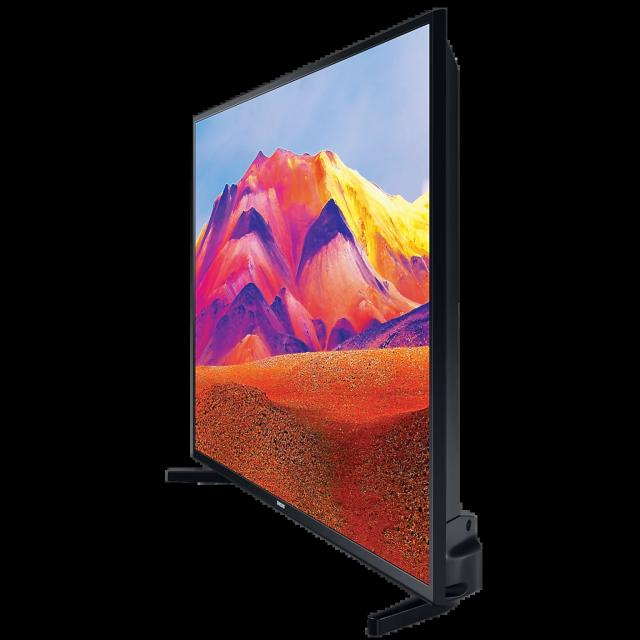electronics: (192, 10, 481, 634), (168, 472, 171, 479)
